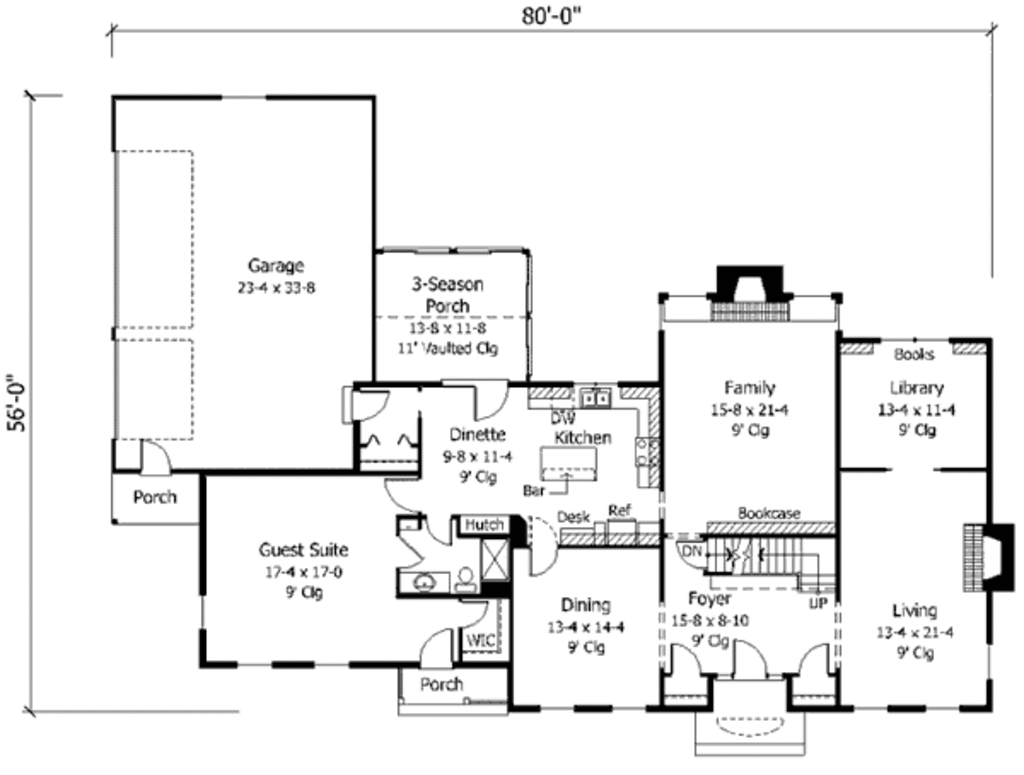door: (728, 633, 773, 680), (467, 377, 510, 426), (136, 438, 181, 478), (795, 643, 836, 681), (665, 641, 703, 679), (415, 627, 454, 664), (350, 387, 393, 420), (529, 539, 562, 582), (391, 533, 426, 572), (385, 473, 421, 510), (423, 514, 457, 546)
kitchen_bar: (534, 441, 599, 488)
large_sink: (452, 559, 484, 592)
small_sink: (398, 568, 451, 593)
stairs: (705, 537, 836, 594)
twin_sink: (570, 383, 614, 413)
windows: (229, 654, 353, 673), (375, 246, 516, 258), (846, 704, 961, 718)
